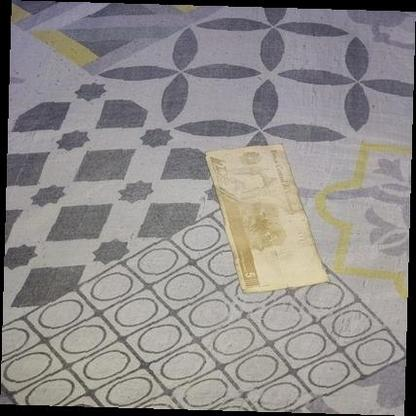five-back-vef: (205, 143, 330, 294)
